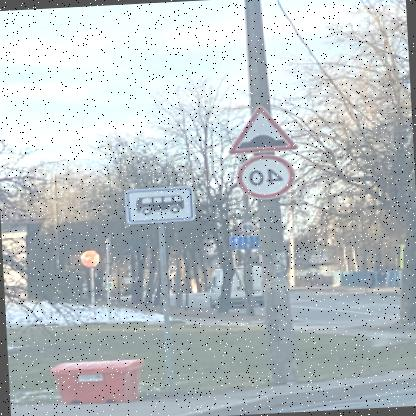speedlimit: (239, 151, 299, 198), (240, 218, 256, 234)
stop: (82, 249, 102, 266)
